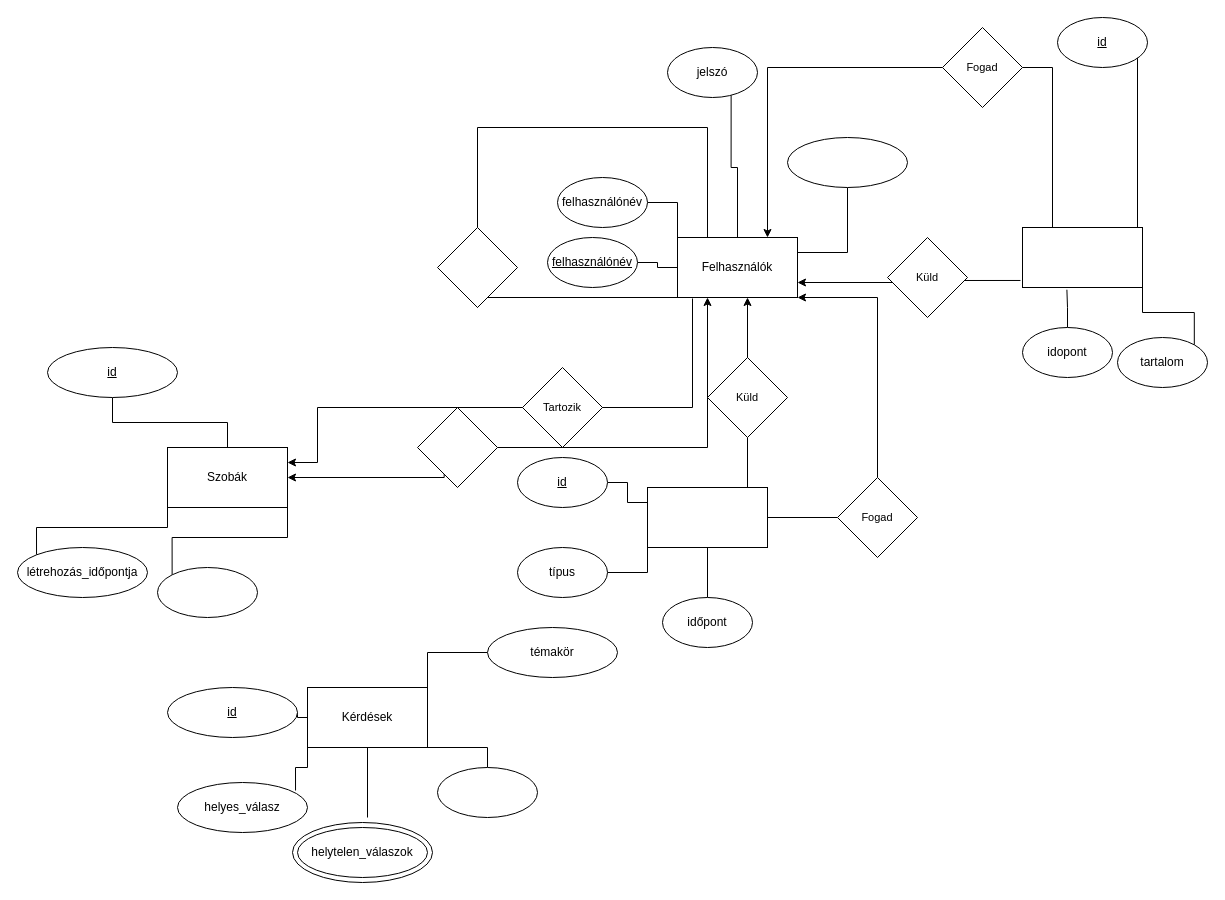
This 1225x900 diagram has some shape labels left out. Each missing label, with the centre of its shape:
Barátja: [477,267]
győzelmek_száma: [847,162]
körök_száma: [207,592]
Létrehoz: [457,447]
Meghívások: [707,517]
nehézség: [487,792]
Üzenetek: [1082,257]
